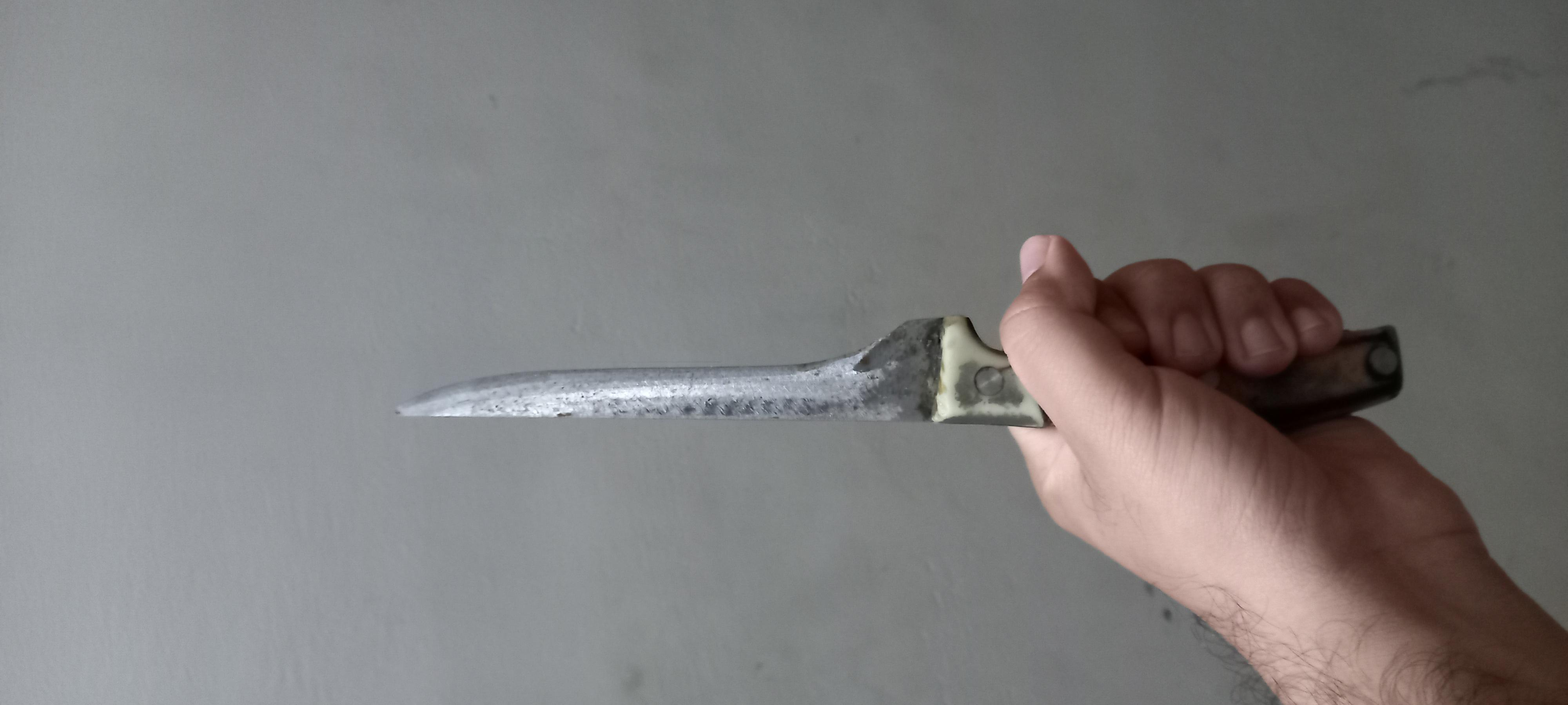knives: (562, 148, 970, 640)
